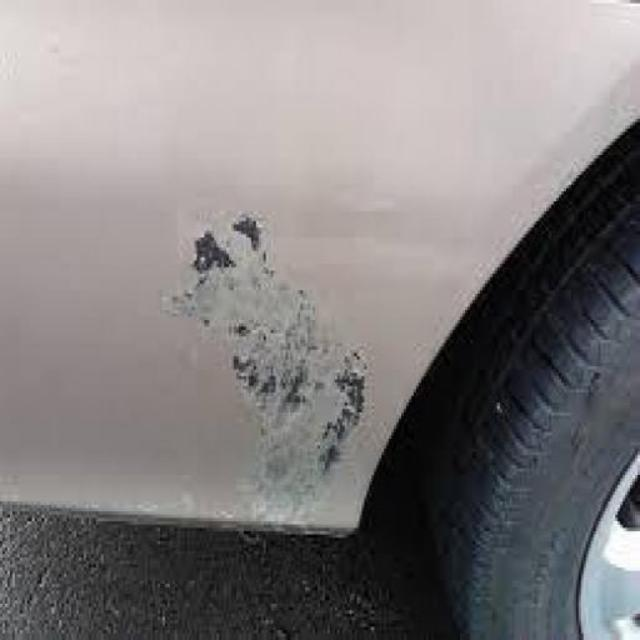rub: (162, 195, 374, 531)
